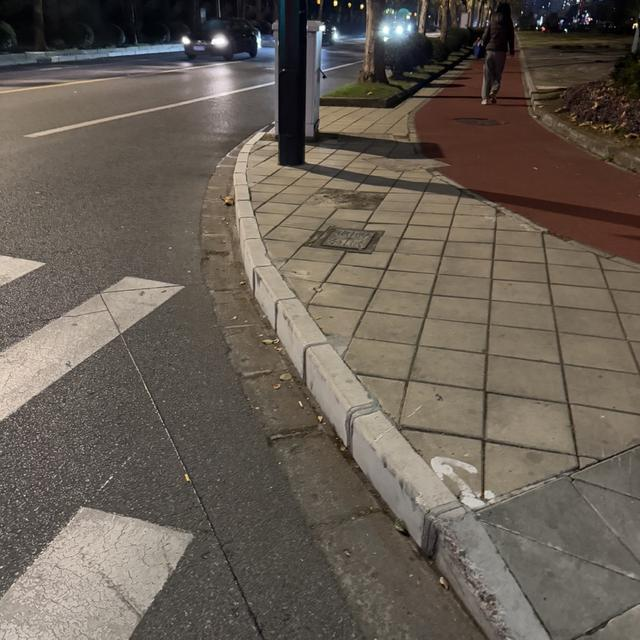curb: (234, 138, 549, 639), (528, 93, 639, 174), (321, 57, 462, 108), (0, 42, 183, 67)
